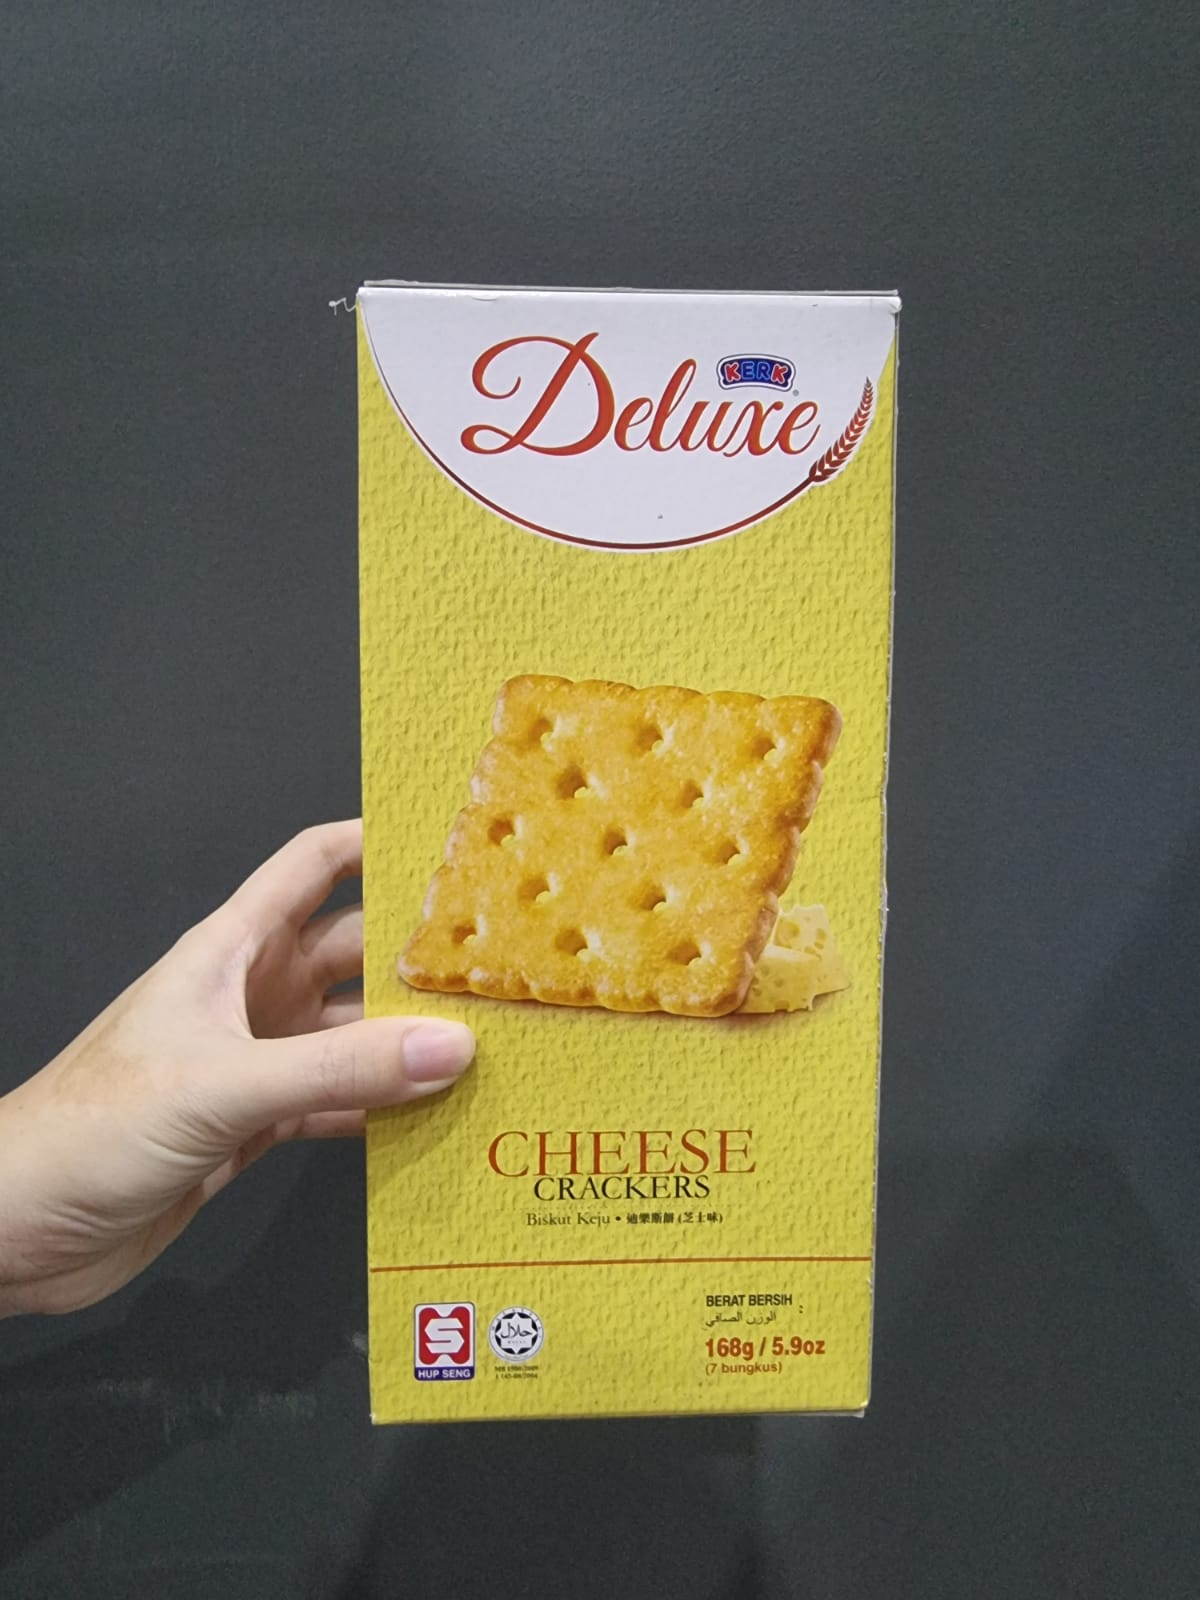Biscuits: (373, 316, 868, 1403)
